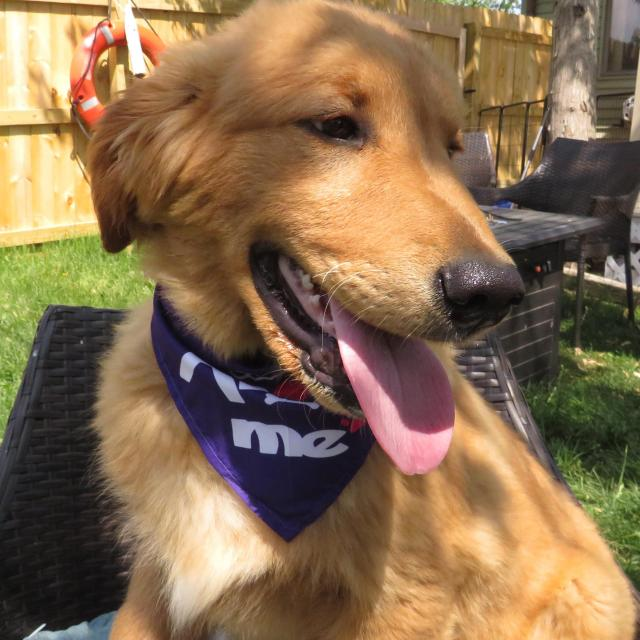golden_retriever_dog: (76, 5, 566, 490)
